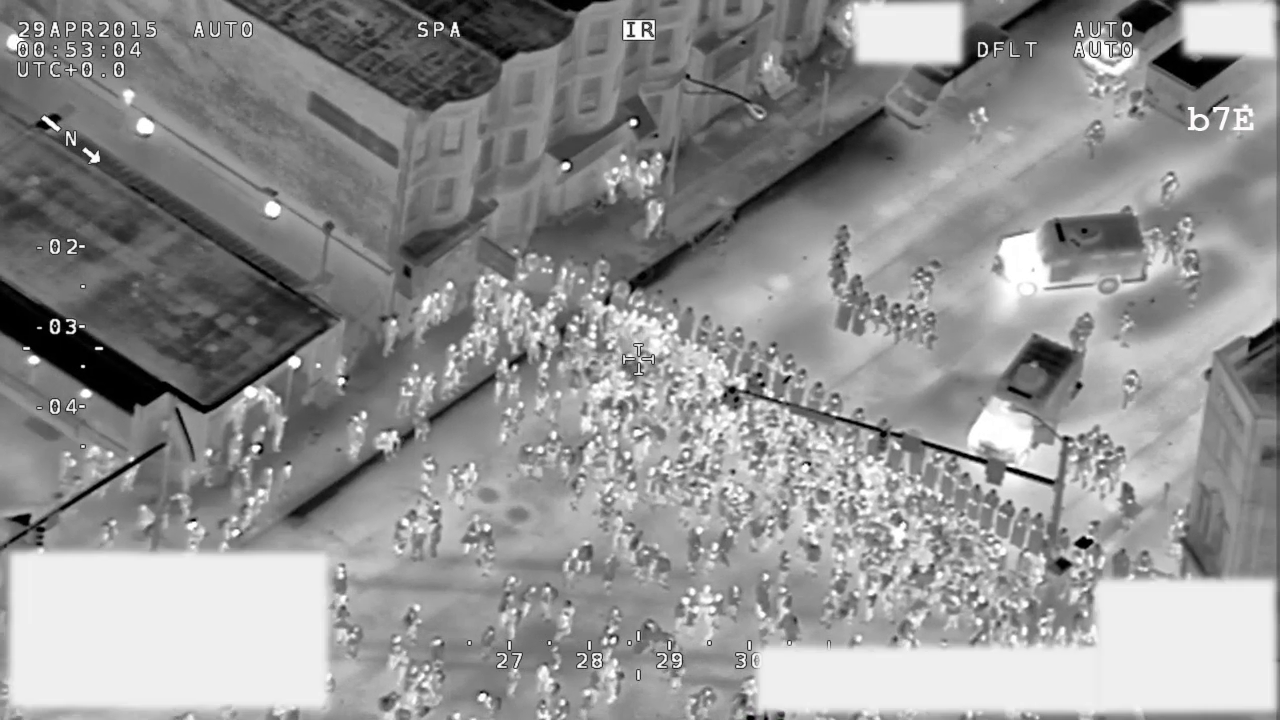vehicle: (962, 331, 1090, 466), (883, 20, 1019, 139), (992, 203, 1154, 300), (1074, 1, 1183, 80)
